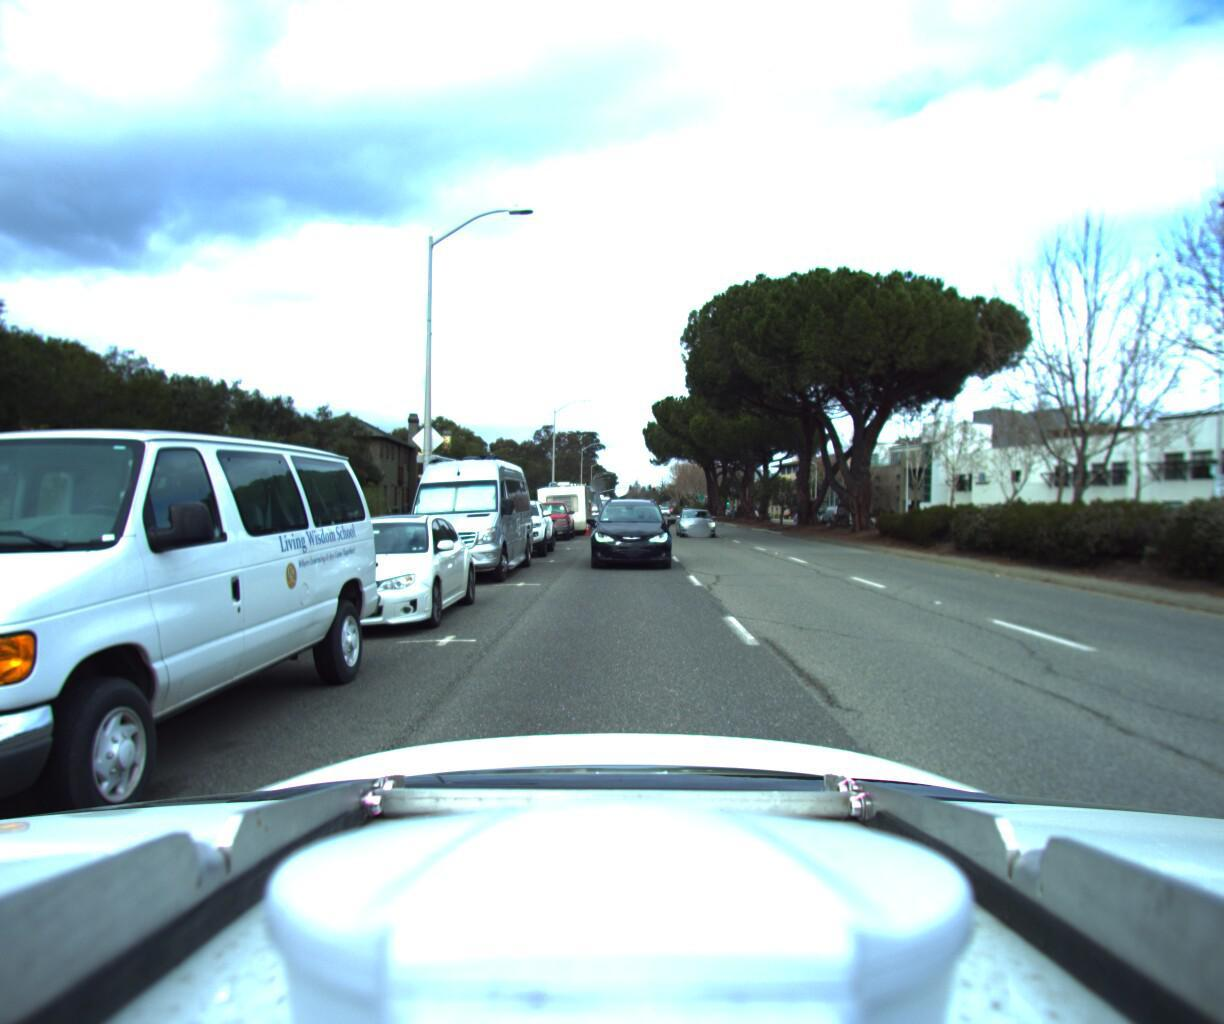bus: (563, 477, 602, 520)
car: (0, 380, 388, 933), (274, 511, 474, 643), (391, 441, 535, 589), (591, 490, 673, 567), (480, 494, 556, 556), (523, 491, 575, 539), (675, 501, 717, 534)
other_vehicle: (531, 470, 592, 531), (545, 473, 595, 525)
